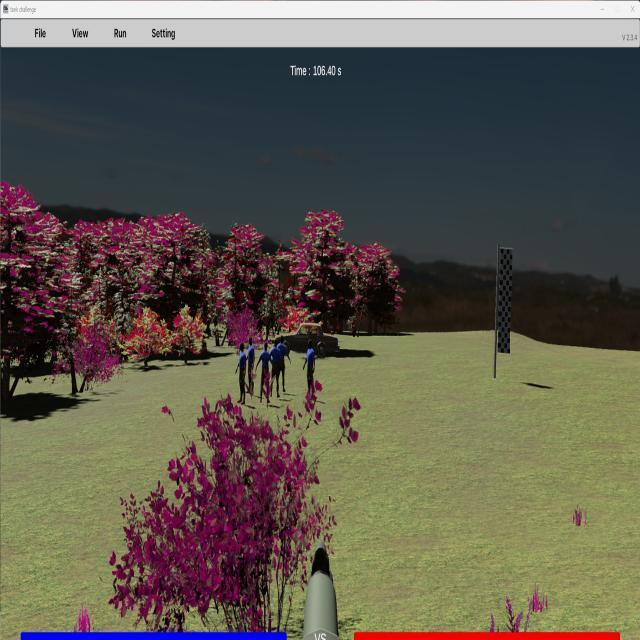Human: (236, 341, 248, 404), (303, 338, 315, 399)
car: (273, 322, 340, 357)
